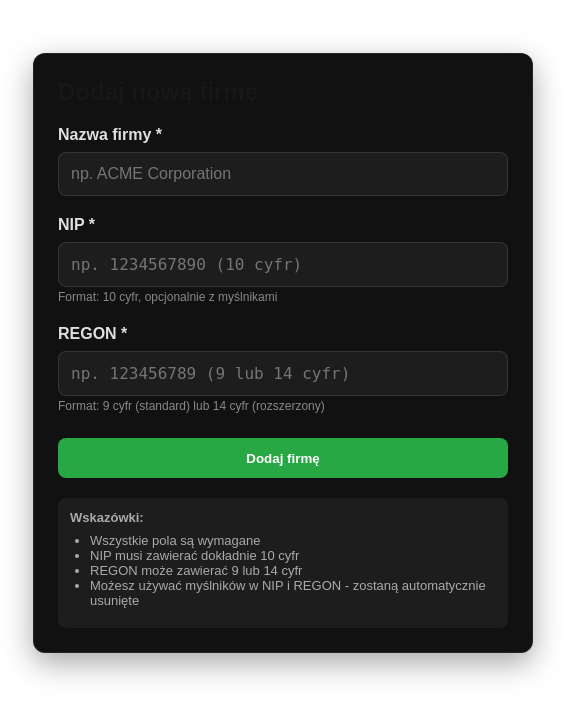
Scenario: AddCompanyForm › Walidacja formularza › powinien pokazać błąd gdy REGON jest pusty
The width and height of the screenshot is (567, 727).
Type "Test Company" into the field labelled "Nazwa firmy *" at (283, 174), box top-left (58, 152), bottom-right (508, 196)
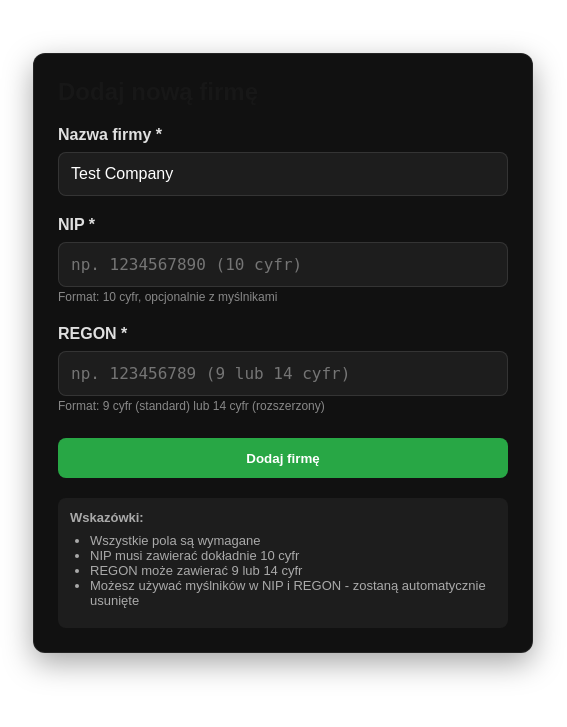
Type "1234567890" into the field labelled "NIP *" at (283, 264), box top-left (58, 242), bottom-right (508, 287)
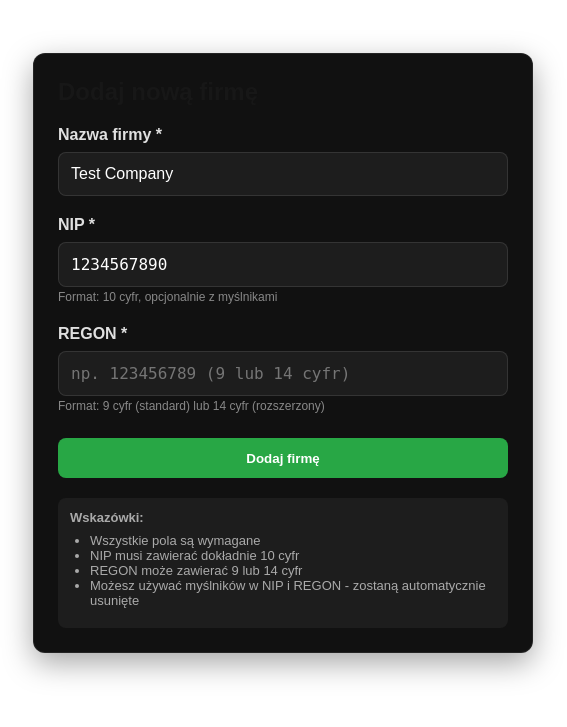
Click the button "Dodaj firmę" at (283, 458), box top-left (58, 438), bottom-right (508, 478)
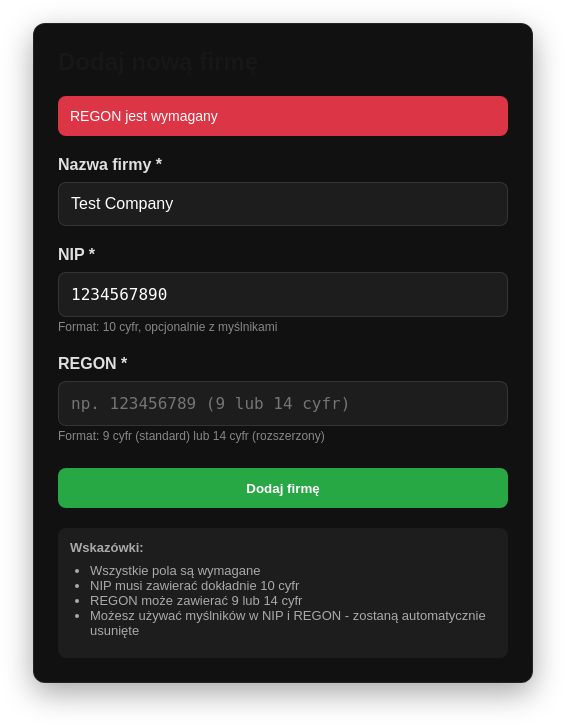
Expected: the text "REGON jest wymagany" is shown, top-left (58, 96), bottom-right (508, 136)
